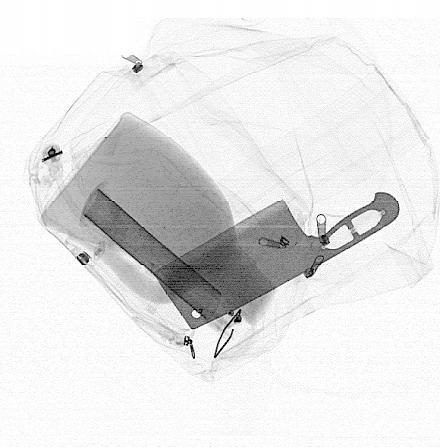Knife: (152, 190, 401, 331)
